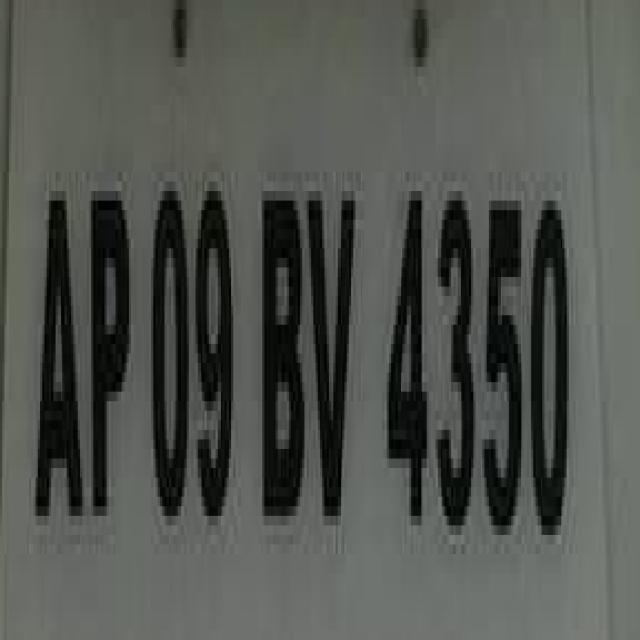license_plate: (0, 28, 613, 640)
